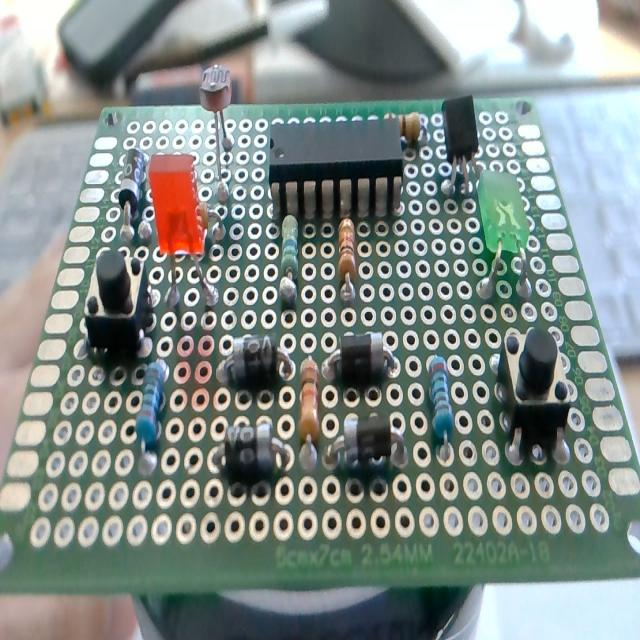IC: (266, 116, 410, 222)
cds: (197, 59, 240, 201)
diode: (328, 417, 406, 471), (214, 422, 294, 474), (215, 341, 291, 385), (325, 335, 394, 381), (116, 140, 146, 238)
led: (147, 156, 216, 306), (474, 171, 534, 294)
resistor: (134, 350, 172, 455), (421, 354, 452, 466), (331, 222, 365, 316), (274, 215, 302, 309)
switch: (494, 329, 578, 466), (78, 246, 156, 355)
transistor: (438, 96, 483, 188)
